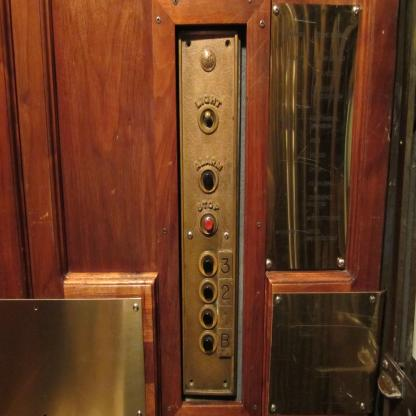1: (217, 303, 235, 332)
2: (217, 276, 234, 309)
3: (217, 247, 234, 281)
B: (216, 329, 234, 358)
bt_switch: (196, 102, 221, 134)
indicator: (196, 209, 222, 238), (196, 165, 220, 194), (198, 328, 217, 356), (198, 278, 218, 303), (199, 250, 218, 276), (199, 304, 218, 328)
